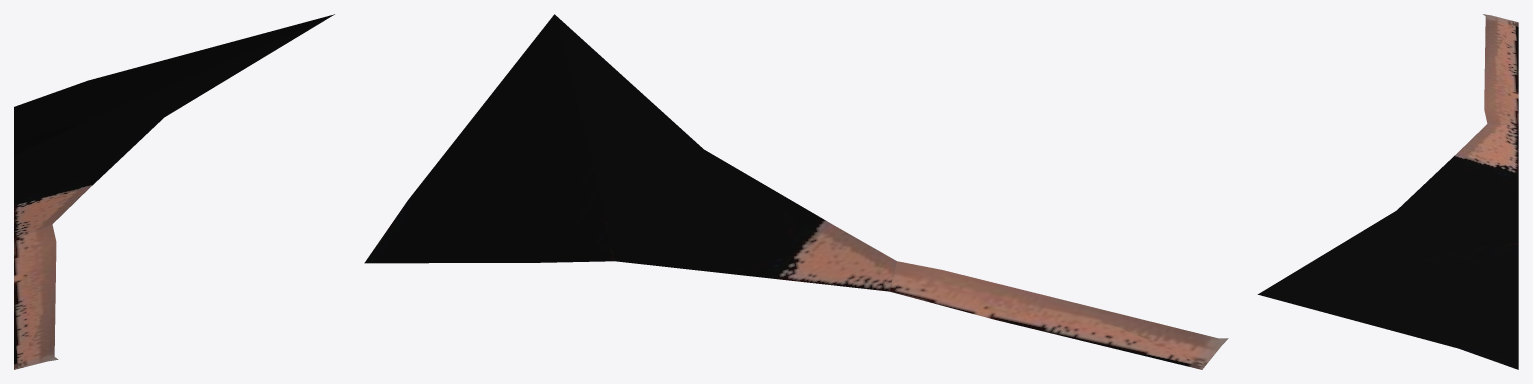
3 renders of one model, left to right at view 1: azimuth 90°, elevation 25°; view 2: azimuth 150°, elevation 25°; view 3: azimuth 270°, elevation 25°, orthographic. The views are drawn at different scales.
Size of the model in its own units: 1.67 by 0.21 by 0.6591.
Materials: 1 (1 with a texture image).
